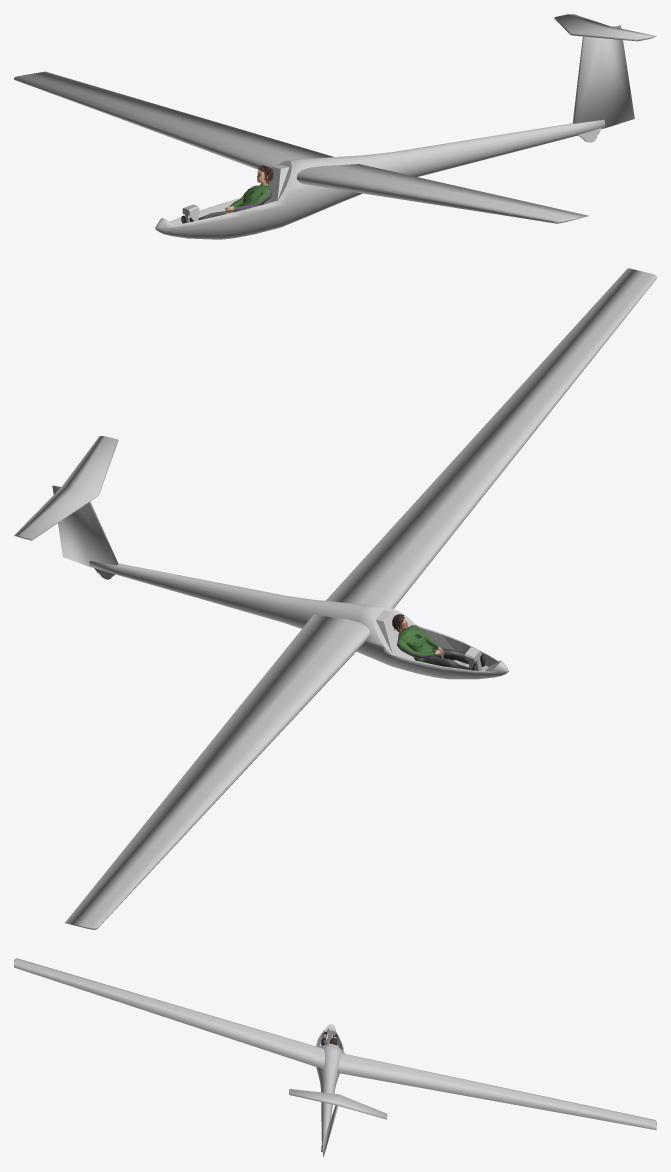
Rendered from glider-orange-ridge-cbj_LOD00.gltf.
The picture shows the model from 3 angles, top to bottom: view 1: azimuth 30°, elevation 25°; view 2: azimuth 150°, elevation 25°; view 3: azimuth 270°, elevation 25°; orthographic projection. The views are drawn at different scales.
Parts seen in each view (by area): view 1: glider00; view 2: glider00; view 3: glider00.
Boxes of the visible parts, <box> form: glider00: <box>14,14,656,239</box>; glider00: <box>14,268,656,929</box>; glider00: <box>14,958,656,1157</box>.
Size of what is drawn, in the model's own units: 7 by 3.93 by 14.53.
